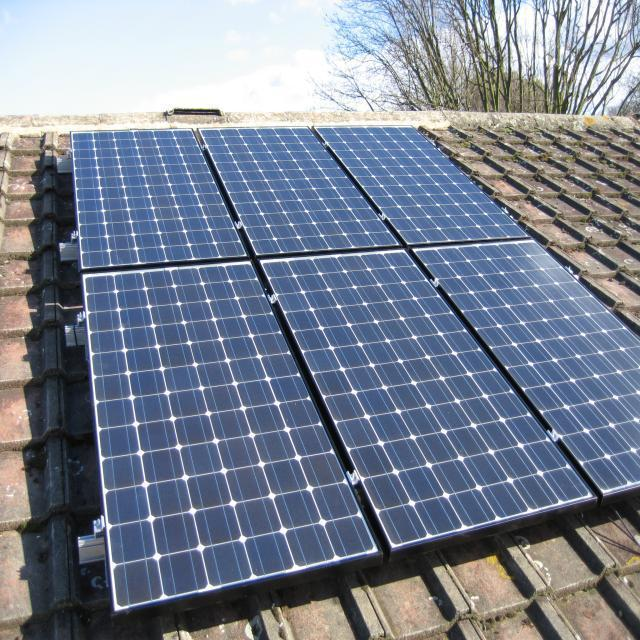Non Defective: (82, 262, 381, 613), (262, 250, 595, 553), (414, 240, 640, 500), (200, 127, 398, 257), (315, 127, 526, 245), (71, 130, 246, 270)
